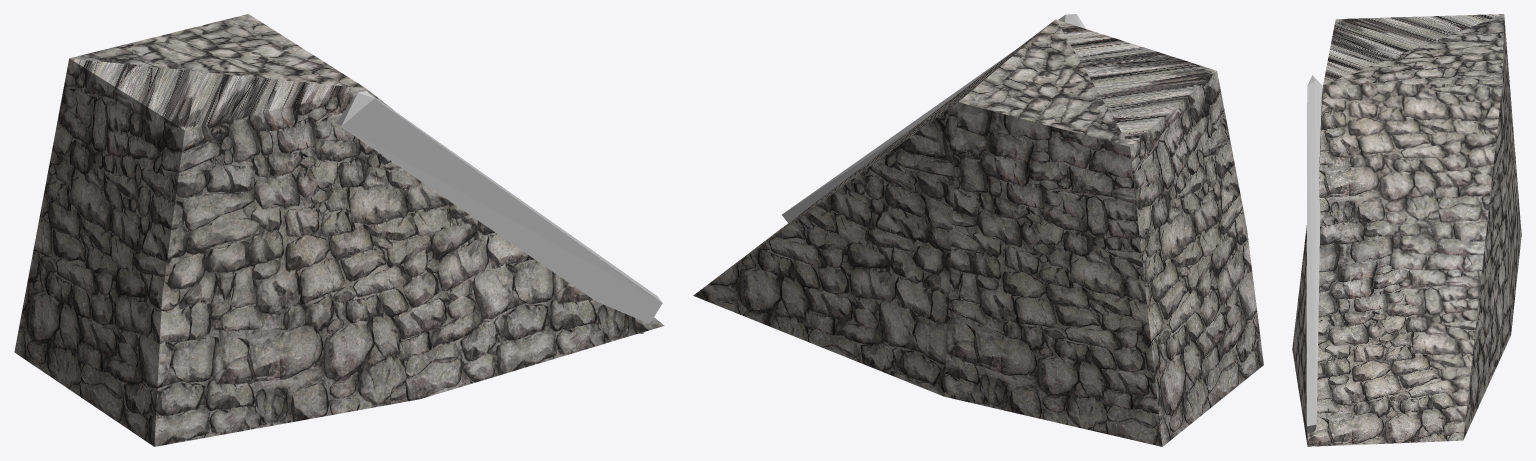
The model's file is StoneRamp_1b_LOD4.fbx.
The picture shows the model from 3 angles, left to right: view 1: azimuth 30°, elevation 25°; view 2: azimuth 150°, elevation 25°; view 3: azimuth 270°, elevation 25°; orthographic projection. The views are drawn at different scales.
Visible parts, largest first — view 1: Stone, Wood; view 2: Stone, Wood; view 3: Stone, Wood.
Part boxes in pixels (bbox=[...]): Stone: bbox=[14, 14, 664, 446]; Wood: bbox=[336, 91, 662, 333]; Stone: bbox=[693, 19, 1263, 446]; Wood: bbox=[782, 14, 1085, 222]; Stone: bbox=[1292, 14, 1521, 446]; Wood: bbox=[1306, 75, 1322, 435].
Size of the model in its own units: 984 by 459 by 561.
